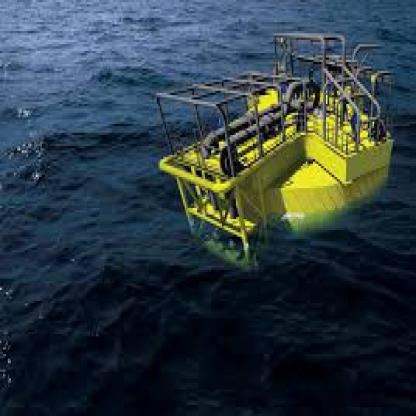buoy: (147, 20, 399, 283)
